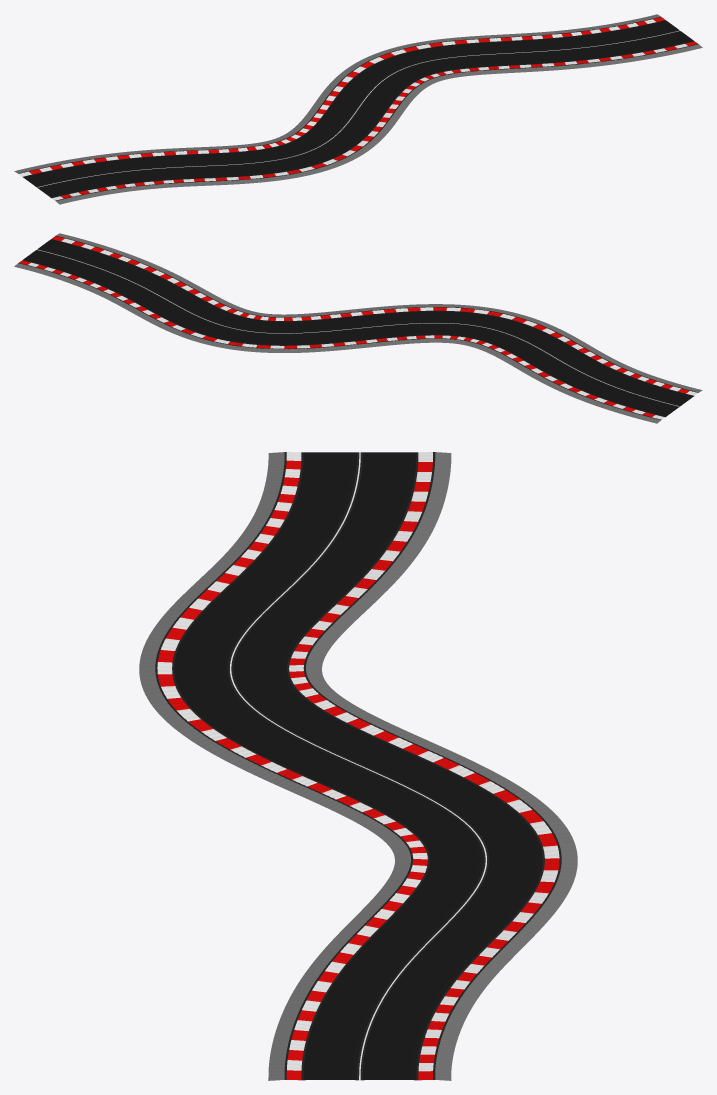
Rendered from S0.Group.202.export.A1M1H0chicaneRL.glb.
3 views of the same model, one above another, from view 1: azimuth 30°, elevation 25°; view 2: azimuth 150°, elevation 25°; view 3: azimuth 270°, elevation 25° (orthographic). The views are drawn at different scales.
Parts seen in each view (by area): view 1: Grid; view 2: Grid; view 3: Grid.
Boxes of the visible parts, x1,y1,x2,y2 form: Grid: [14, 14, 702, 204]; Grid: [14, 233, 702, 423]; Grid: [139, 452, 577, 1080].
Bounding box in the file's own units: 203 × 0.21 × 59.98.
